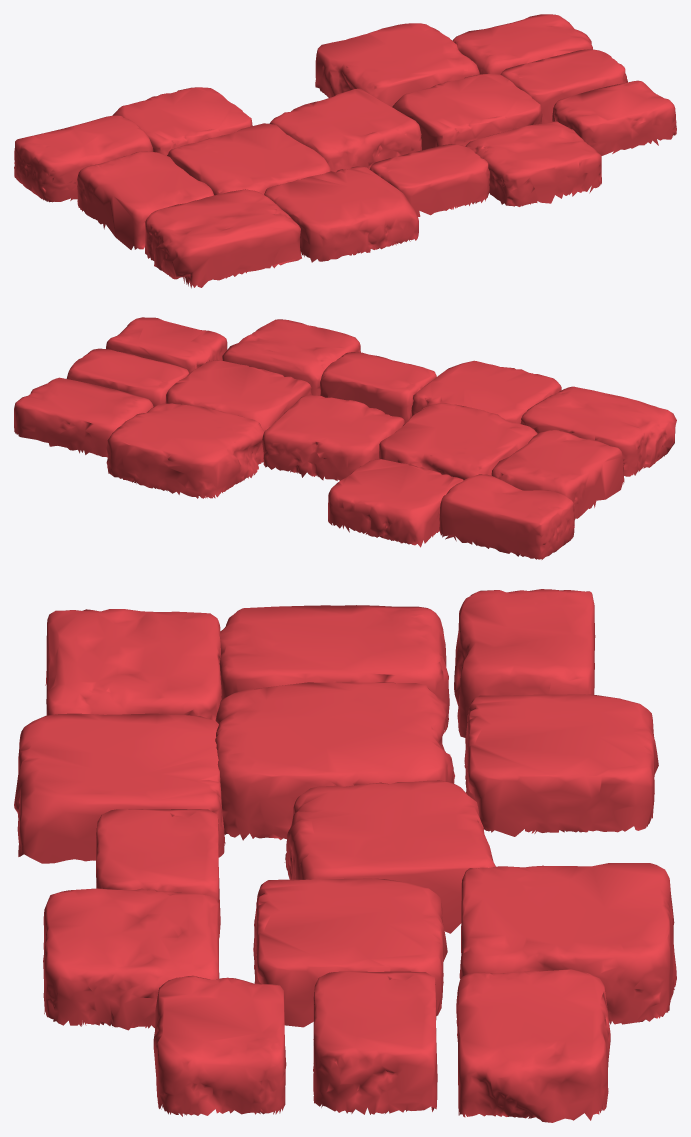
Rendered from SM_Ground_B.fbx.
3 views of the same model, one above another, from view 1: azimuth 30°, elevation 25°; view 2: azimuth 150°, elevation 25°; view 3: azimuth 270°, elevation 25° (orthographic). The views are drawn at different scales.
Visible parts, largest first — view 1: SM_GROUND_LOD0; view 2: SM_GROUND_LOD0; view 3: SM_GROUND_LOD0.
Boxes of the visible parts, bbox=[...] form: SM_GROUND_LOD0: bbox=[14, 14, 676, 288]; SM_GROUND_LOD0: bbox=[14, 317, 676, 559]; SM_GROUND_LOD0: bbox=[14, 589, 676, 1122].
Size of what is drawn, in the model's own units: 378 by 32.94 by 225.
